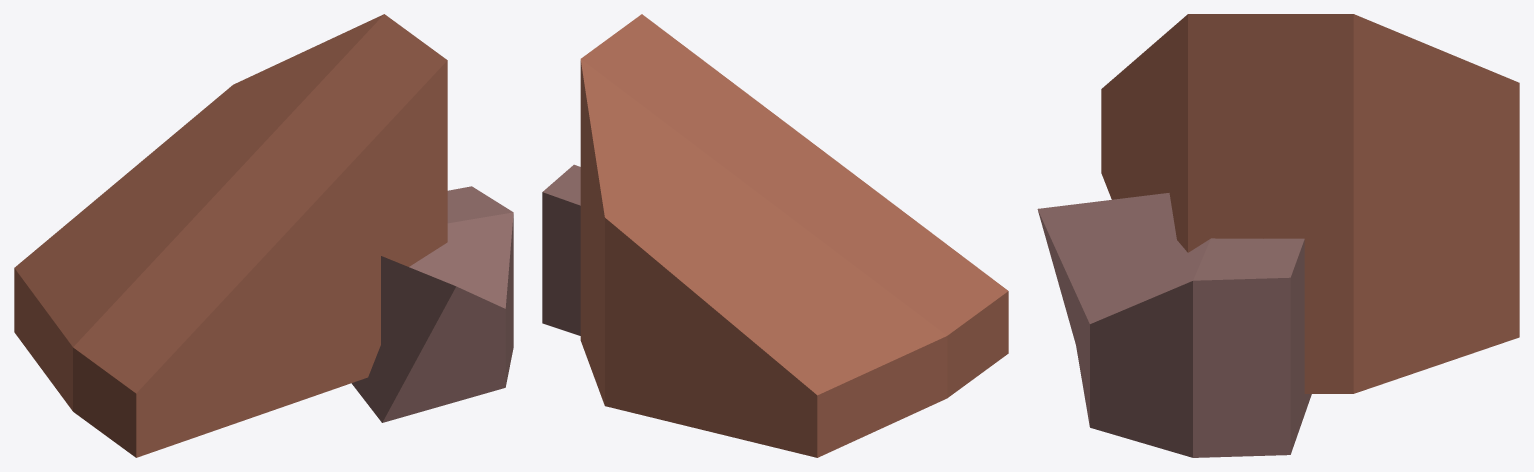
The model's file is rock-type5-04-orange.glb.
3 renders of one model, left to right at view 1: azimuth 30°, elevation 25°; view 2: azimuth 150°, elevation 25°; view 3: azimuth 270°, elevation 25°, orthographic. The views are drawn at different scales.
Visible parts, largest first — view 1: Rock_Type5_04_mesh; view 2: Rock_Type5_04_mesh; view 3: Rock_Type5_04_mesh.
Boxes of the visible parts, x1,y1,x2,y2 form: Rock_Type5_04_mesh: (14, 14, 513, 457); Rock_Type5_04_mesh: (542, 14, 1008, 457); Rock_Type5_04_mesh: (1037, 14, 1519, 457).
Size of the model in its own units: 1.18 by 0.8351 by 0.911.
1 material, 1 textured.
